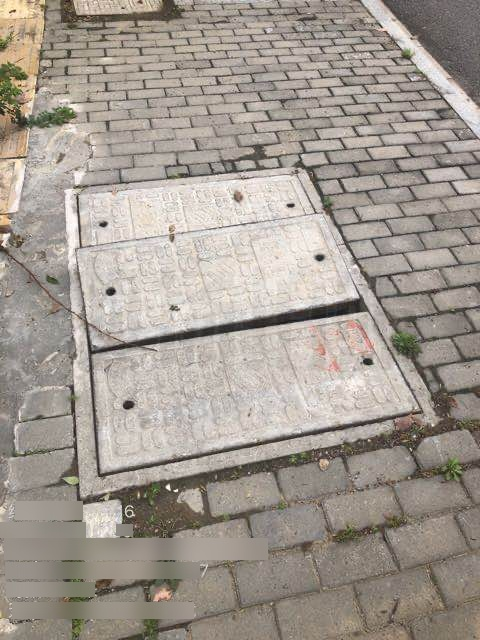uncovered: (65, 168, 440, 498)
